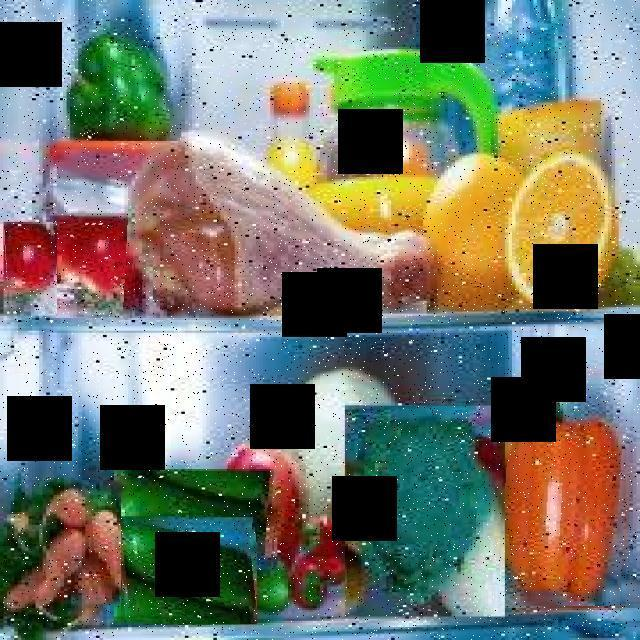bell_pepper: (505, 373, 633, 606), (60, 21, 182, 141)
broccoli: (345, 406, 505, 616)
carrot: (85, 482, 121, 604)
cucumber: (116, 469, 279, 570), (115, 517, 258, 624)
tomato: (51, 213, 137, 318), (3, 222, 57, 316)
